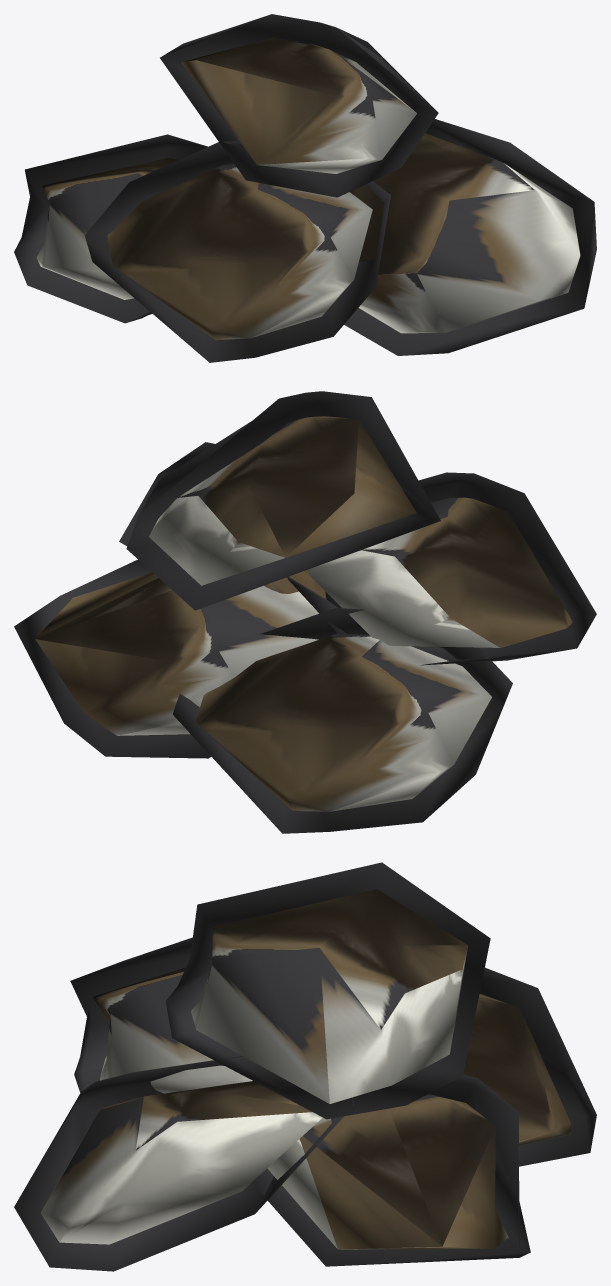
Rendered from STONEPILE.fbx.
3 views of the same model, one above another, from view 1: azimuth 30°, elevation 25°; view 2: azimuth 150°, elevation 25°; view 3: azimuth 270°, elevation 25° (orthographic). The views are drawn at different scales.
Parts seen in each view (by area): view 1: STONEPILE; view 2: STONEPILE; view 3: STONEPILE.
Boxes of the visible parts, box(x1,y1,x2,y2) form: STONEPILE: box(14, 14, 596, 362); STONEPILE: box(14, 391, 596, 833); STONEPILE: box(14, 862, 596, 1271).
Bounding box in the file's own units: 1437 × 809 × 1385.
